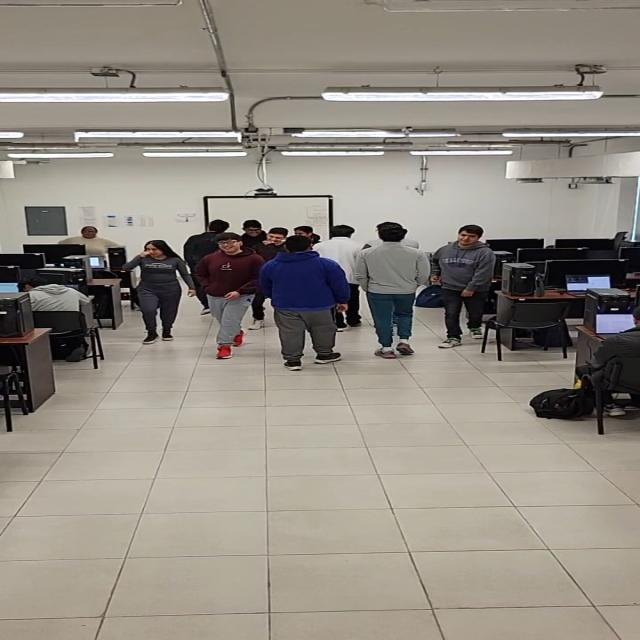Persona: (258, 235, 352, 371), (352, 225, 431, 359), (192, 232, 266, 360), (431, 224, 497, 349), (119, 240, 198, 344), (311, 225, 366, 332), (183, 220, 240, 267), (249, 228, 290, 260), (234, 219, 269, 249)
